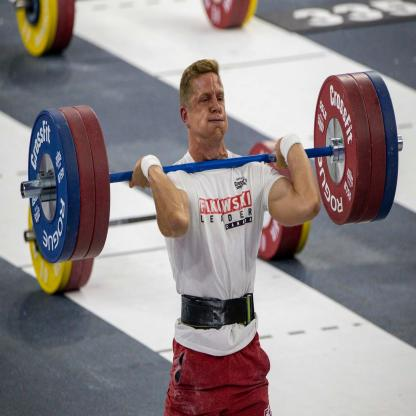barbell: (314, 75, 360, 227), (28, 110, 70, 265)
